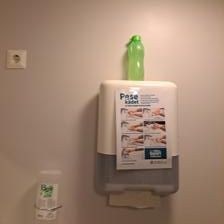bottle: (121, 31, 146, 81)
